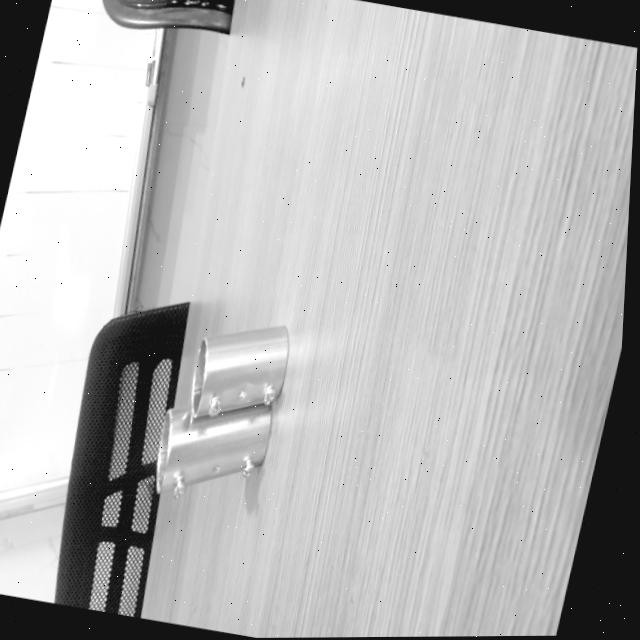Co_Lon: (153, 401, 275, 498)
Co_Nho: (181, 323, 298, 418)
